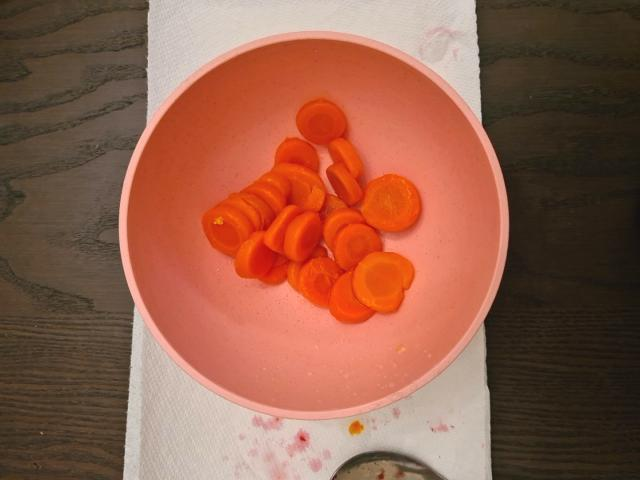kichen waste: (201, 99, 421, 324)
